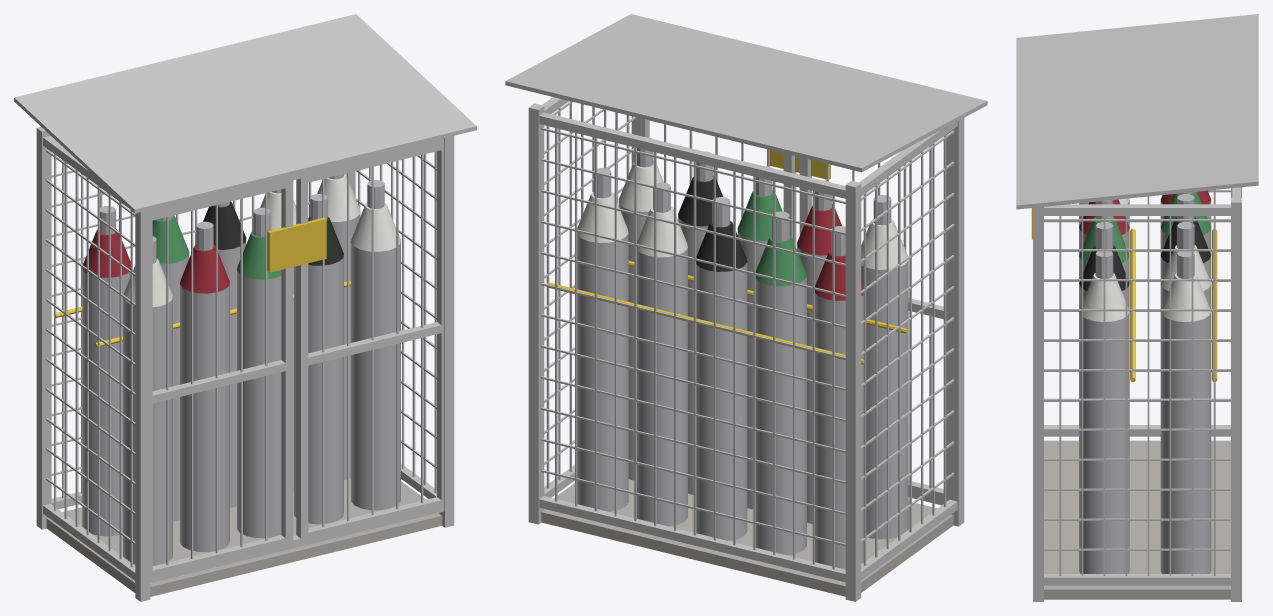
Rendered from SM_GasCylinderCage.fbx.
3 views of the same model, side by side, from view 1: azimuth 30°, elevation 25°; view 2: azimuth 150°, elevation 25°; view 3: azimuth 270°, elevation 25° (orthographic). The views are drawn at different scales.
Visible parts, largest first — view 1: GCC_Cage, GCC_Cylinders, GCC_GateR, GCC_GateL; view 2: GCC_Cage, GCC_Cylinders, GCC_GateL, GCC_GateR; view 3: GCC_Cage, GCC_Cylinders.
Boxes of the visible parts, x1,y1,x2,y2 form: GCC_Cage: [14, 14, 476, 601]; GCC_Cylinders: [82, 174, 400, 565]; GCC_GateR: [296, 141, 444, 542]; GCC_GateL: [150, 178, 293, 578]; GCC_Cage: [505, 14, 987, 601]; GCC_Cylinders: [577, 137, 908, 569]; GCC_GateL: [799, 133, 948, 498]; GCC_GateR: [642, 119, 796, 247]; GCC_Cage: [1016, 14, 1258, 601]; GCC_Cylinders: [1079, 190, 1211, 573].
Bounding box in the file's own units: 180 × 214 × 110.
